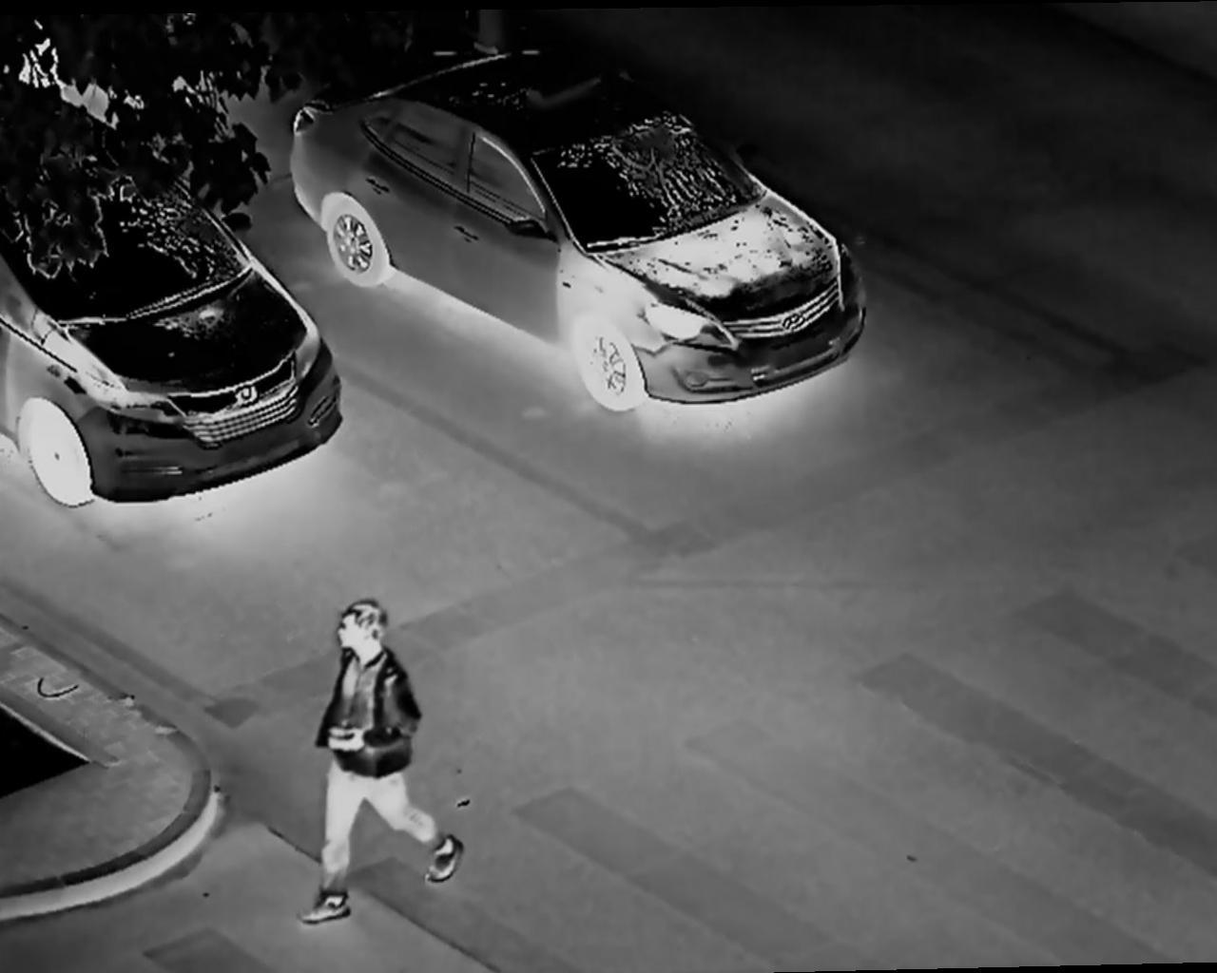person: (311, 601, 471, 924)
